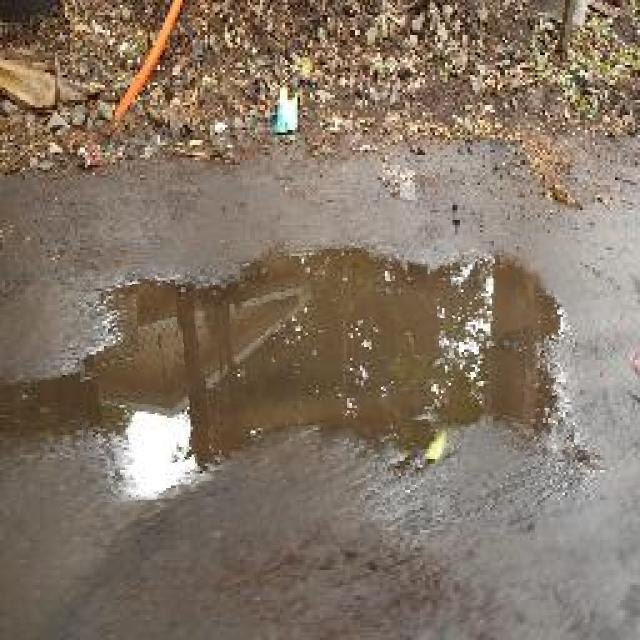puddle: (78, 240, 574, 498)
